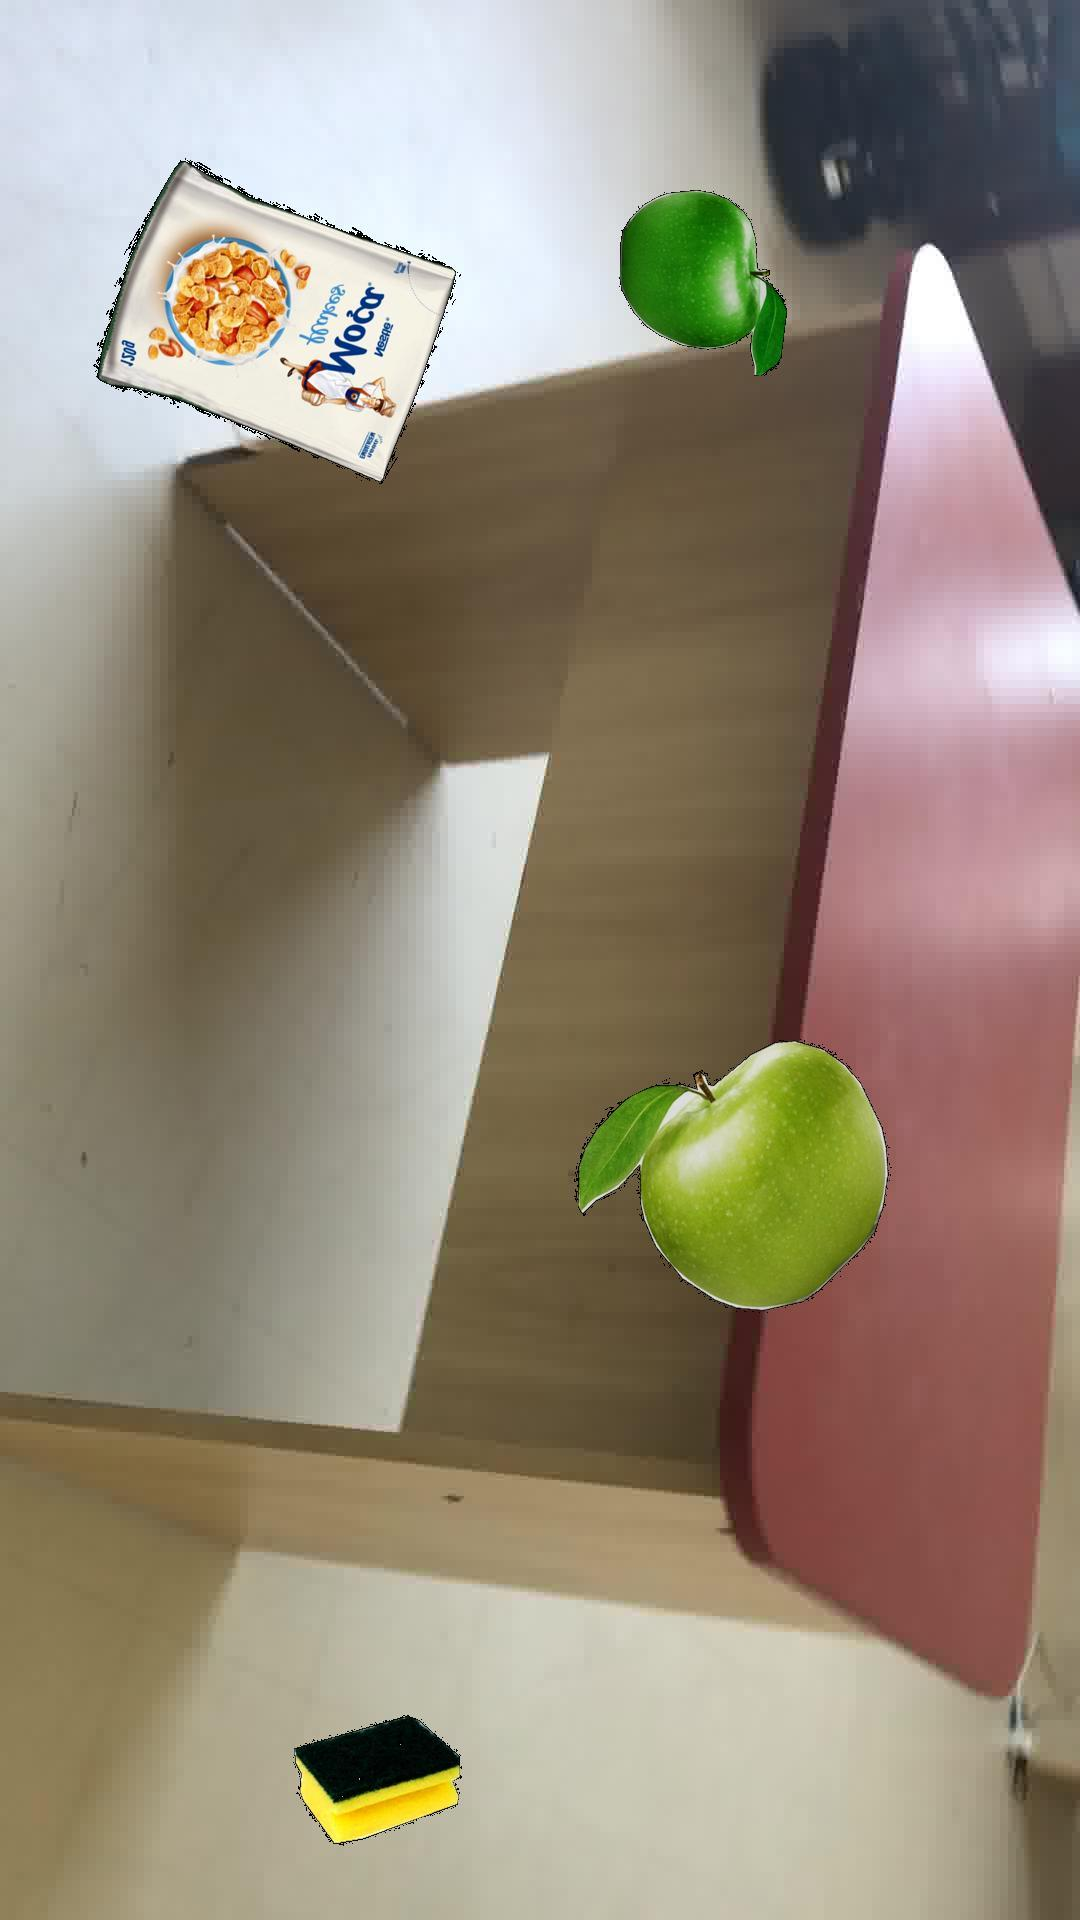corn flakes: (91, 158, 455, 483)
green apple: (572, 1039, 887, 1309), (617, 189, 786, 375)
sponge: (293, 1713, 460, 1845)
